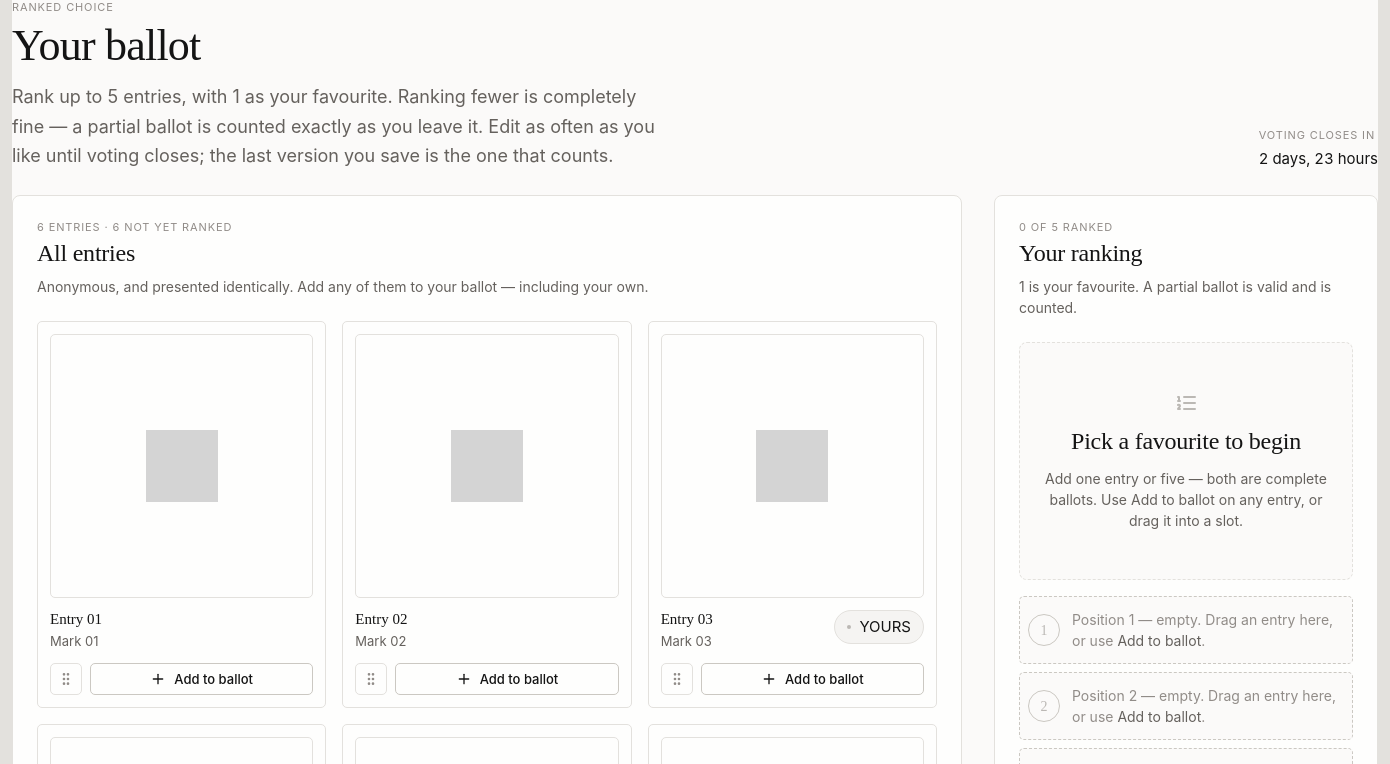
Test: ballot — autosave › surfaces a retry — and keeps the edit — when a save fails
The width and height of the screenshot is (1390, 764).
Check: the heading "Your ballot" is shown, box [12,21,200,70]
Check: the heading "Your ranking" is shown, box [1019,240,1142,266]
Press Tab
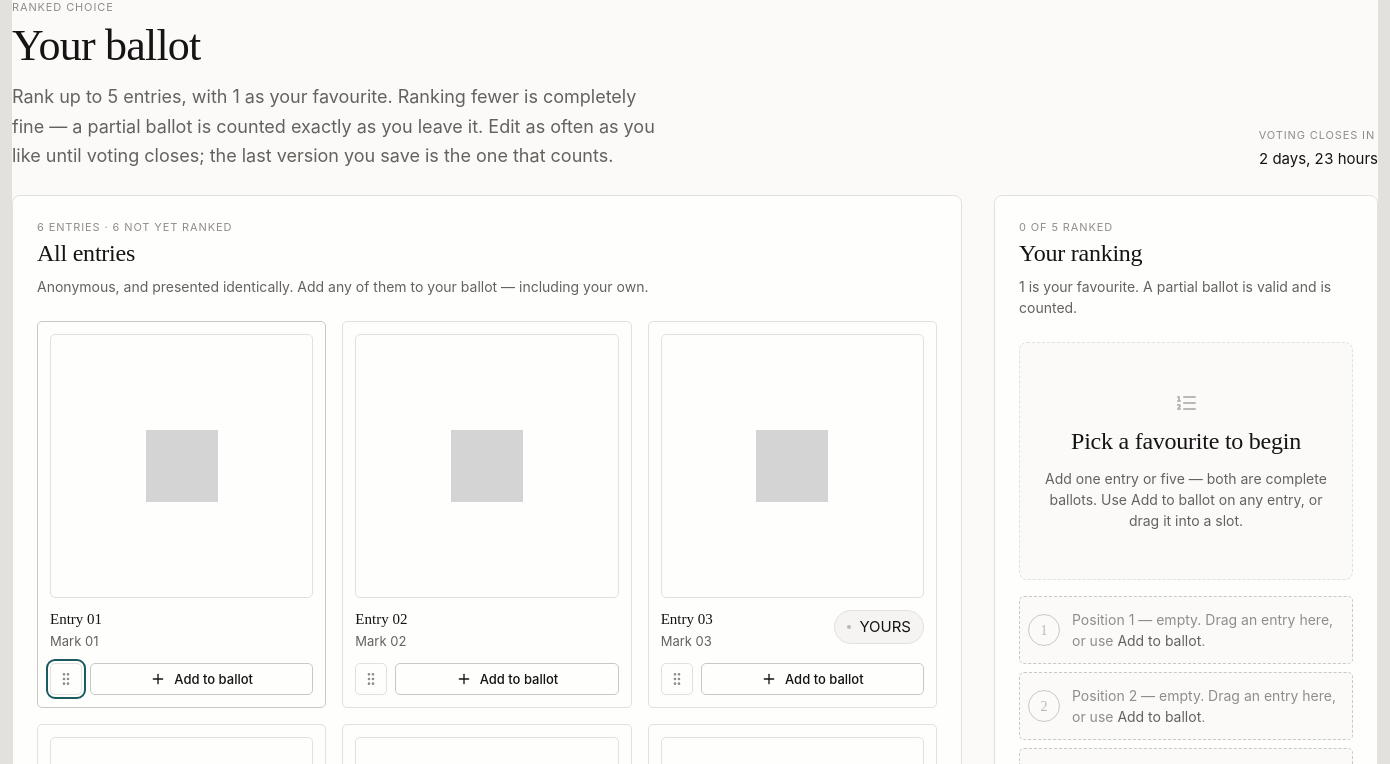
Press Tab
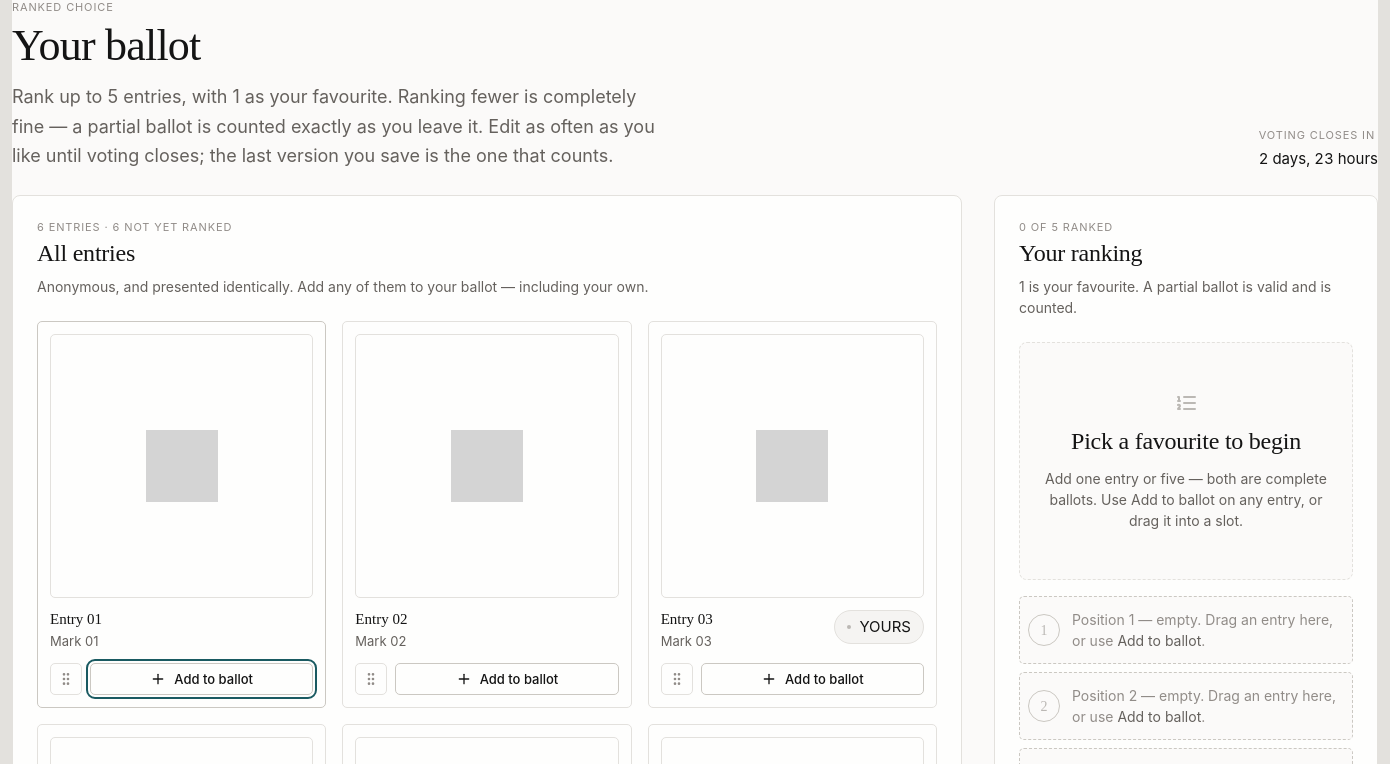
Press Enter
(page scrolled)
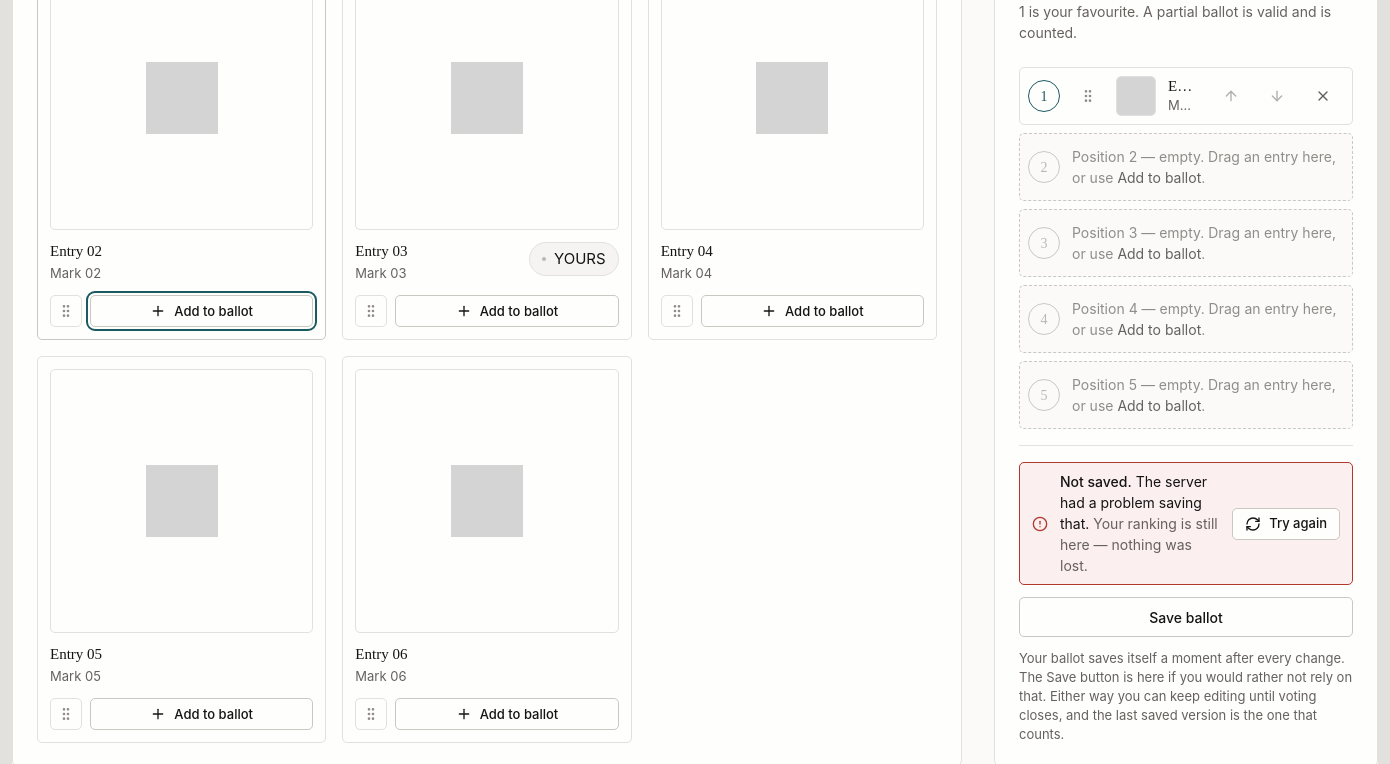
Check: the text "Not saved." is shown, box [1060,473,1132,490]
Check: the text "The server had a problem saving that." is shown, box [1060,473,1207,532]
Check: the text "Your ranking is still here — nothing was lost." is shown, box [1060,515,1218,574]
Click the button "Try again". click: click(1286, 523)
box: [1232,507,1340,539]
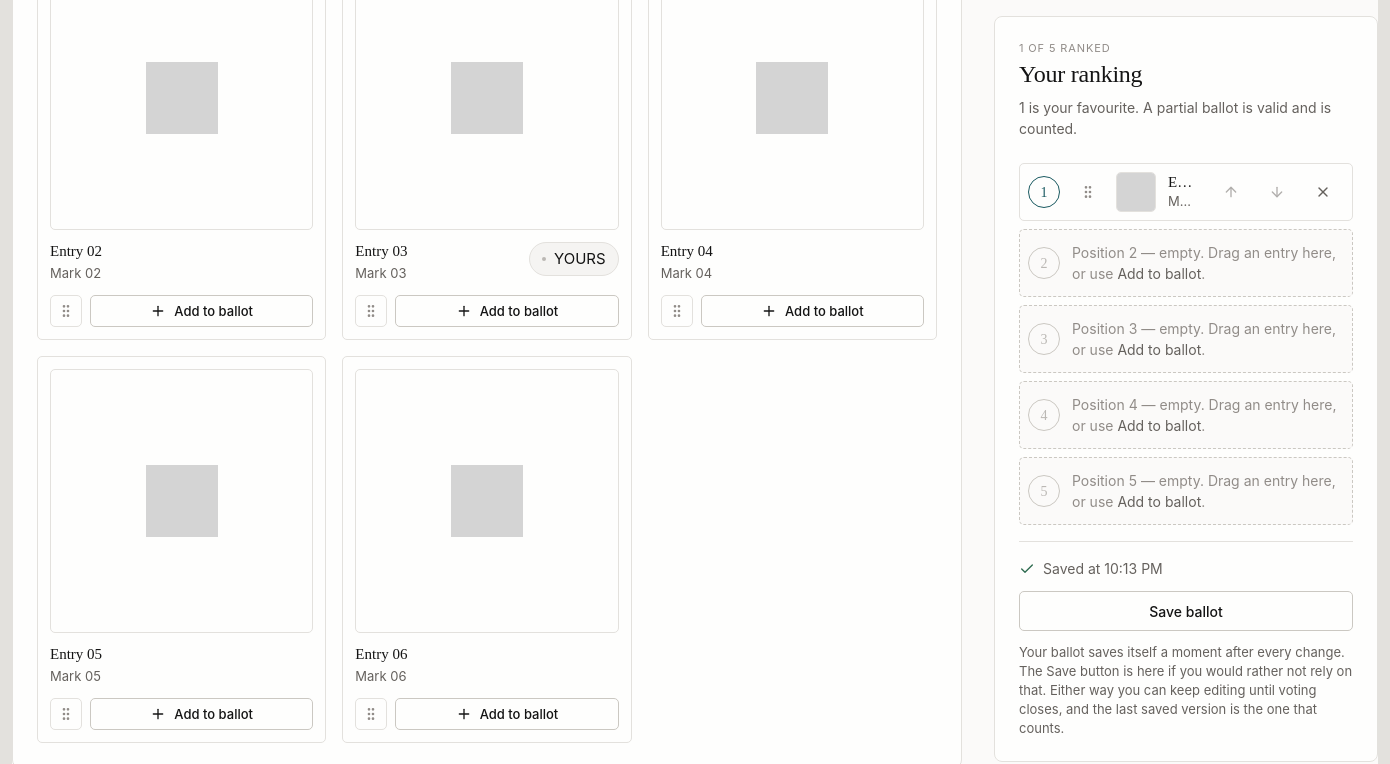
Check: the text "Saved at 10:13 PM" is shown, box [1043,558,1163,579]
